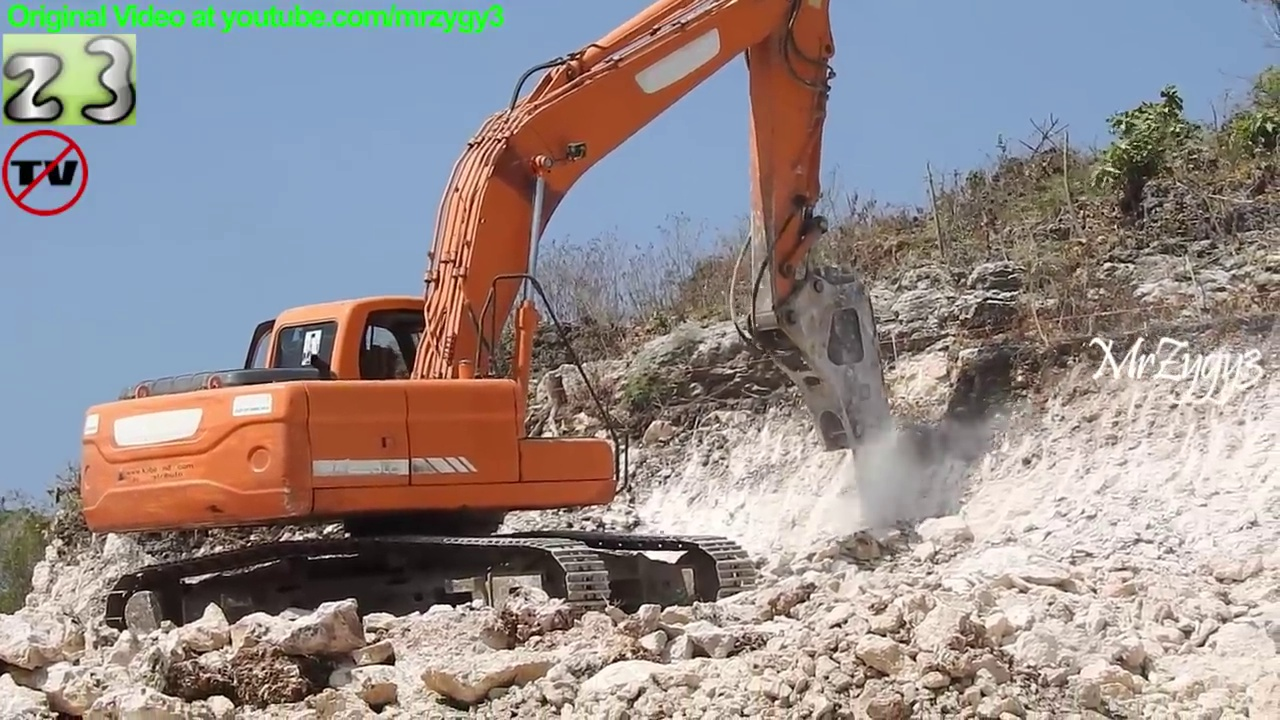excavator: (74, 1, 917, 661)
